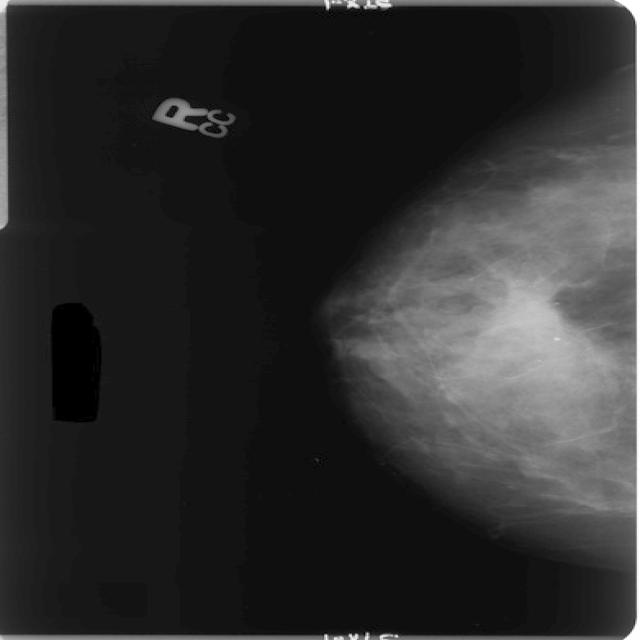tumour: (498, 286, 563, 343)
